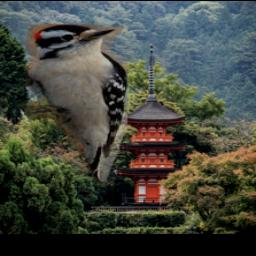Woodpecker: (22, 25, 129, 182)
